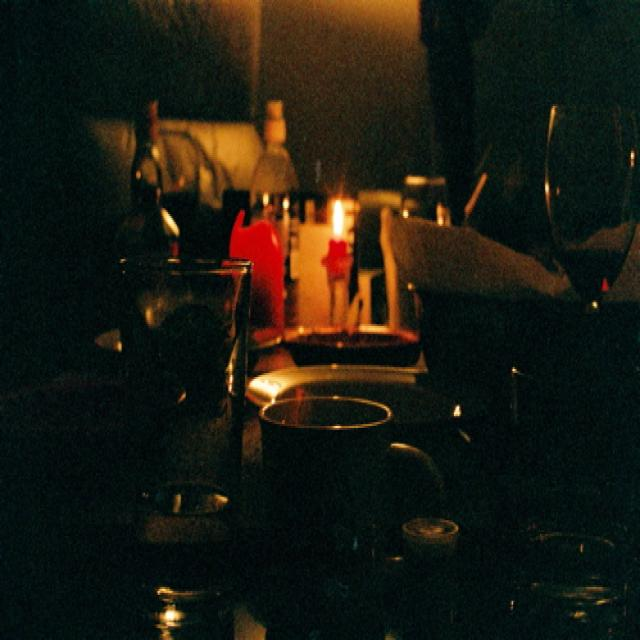Bottle: (118, 63, 194, 288), (251, 83, 316, 278)
Cup: (96, 257, 264, 572), (538, 94, 640, 463), (249, 352, 413, 569), (505, 498, 638, 640), (373, 490, 471, 640), (375, 164, 453, 276)
